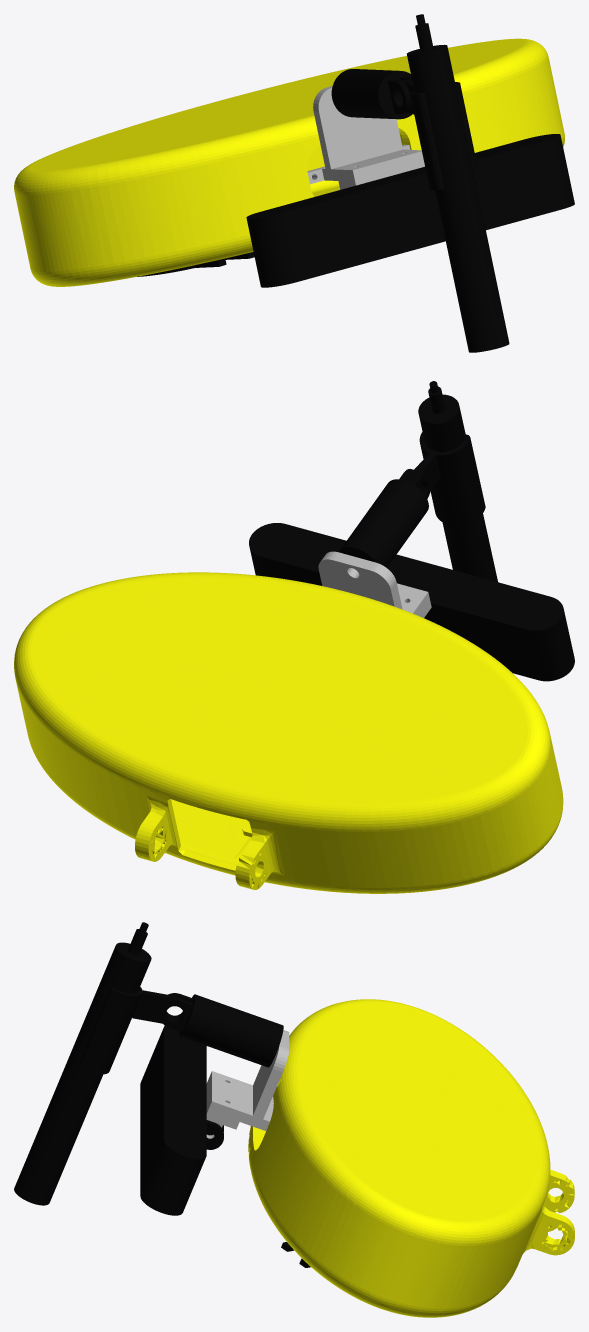
File: head_mini0.dae
3 renders of one model, top to bottom at view 1: azimuth 30°, elevation 25°; view 2: azimuth 150°, elevation 25°; view 3: azimuth 270°, elevation 25°, orthographic. The views are drawn at different scales.
Parts seen in each view (by area): view 1: node; view 2: node; view 3: node.
Boxes of the visible parts, x1=… form: node: x1=14, y1=14, x2=574, y2=352; node: x1=14, y1=381, x2=574, y2=893; node: x1=14, y1=922, x2=574, y2=1317.
Size of the model in its own units: 30.1 by 19.4 by 30.65.
1 material, 1 textured.
